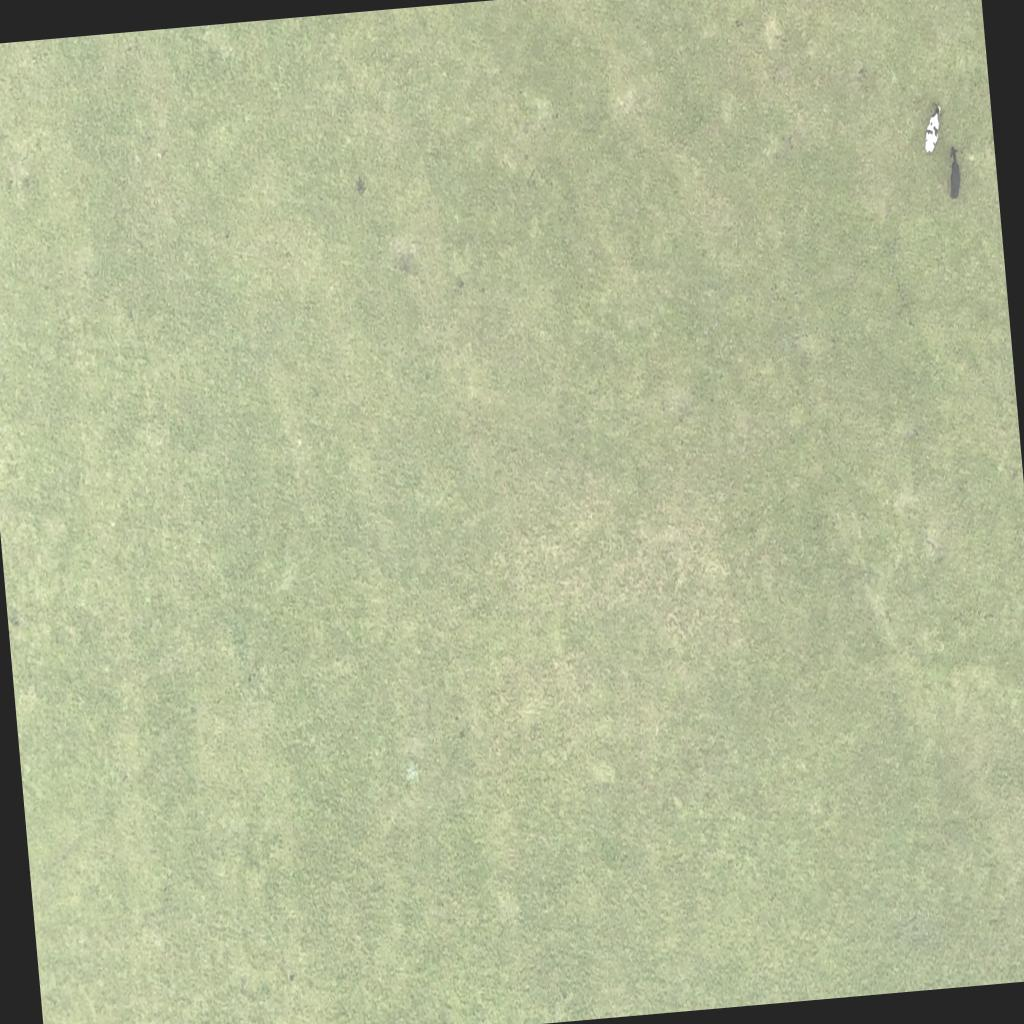cow: (918, 102, 946, 156), (942, 145, 962, 201)
